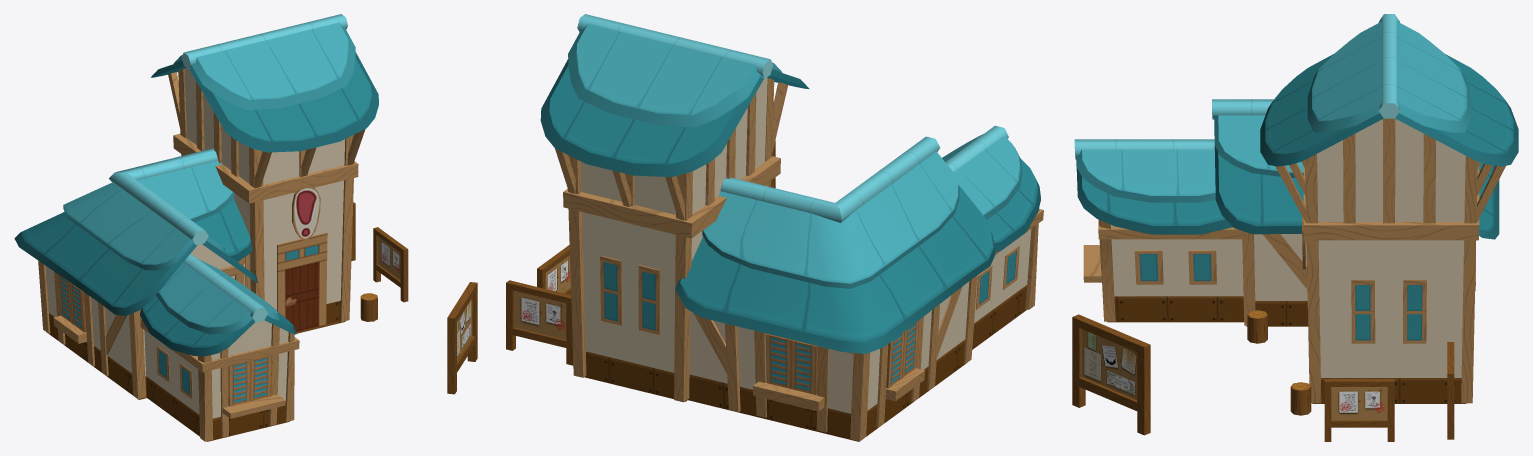
The model's file is building_Commissioner_lv4.FBX.
The picture shows the model from 3 angles, left to right: view 1: azimuth 30°, elevation 25°; view 2: azimuth 150°, elevation 25°; view 3: azimuth 270°, elevation 25°; orthographic projection. The views are drawn at different scales.
Visible parts, largest first — view 1: building_Commissioner_main_lv4, building_Commissioner_lv4, building_Commissioner_etc_lv4; view 2: building_Commissioner_main_lv4, building_Commissioner_lv4, building_Commissioner_etc_lv4; view 3: building_Commissioner_main_lv4, building_Commissioner_lv4, building_Commissioner_etc_lv4.
Part boxes in pixels (box(x1,y1,x2,y2)): building_Commissioner_main_lv4: box(14, 14, 378, 441); building_Commissioner_lv4: box(38, 68, 365, 441); building_Commissioner_etc_lv4: box(351, 202, 477, 394); building_Commissioner_main_lv4: box(540, 14, 1040, 441); building_Commissioner_lv4: box(555, 78, 1043, 441); building_Commissioner_etc_lv4: box(506, 140, 775, 365); building_Commissioner_main_lv4: box(1074, 14, 1518, 403); building_Commissioner_lv4: box(1083, 118, 1505, 403); building_Commissioner_etc_lv4: box(1072, 310, 1454, 441).
Size of the model in its own units: 574 by 459 by 584.
